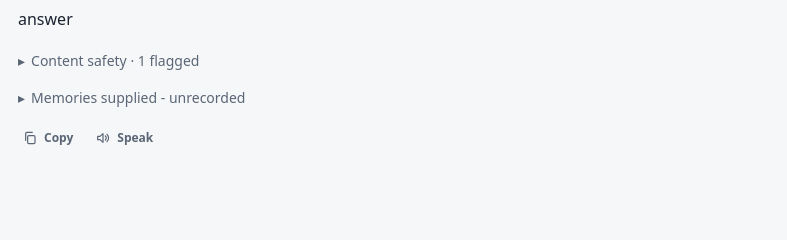
MessageList content-safety panel › leaves an unranked severity as the provider wrote it
Click the heading "Content safety · 1 flagged" at (115, 61), box [31, 51, 199, 70]
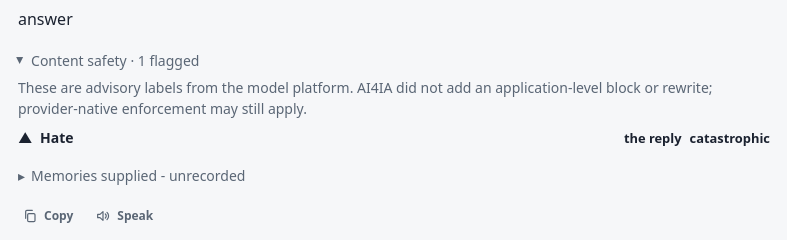
Expected: the text "catastrophic" is shown, [690, 129, 770, 149]
